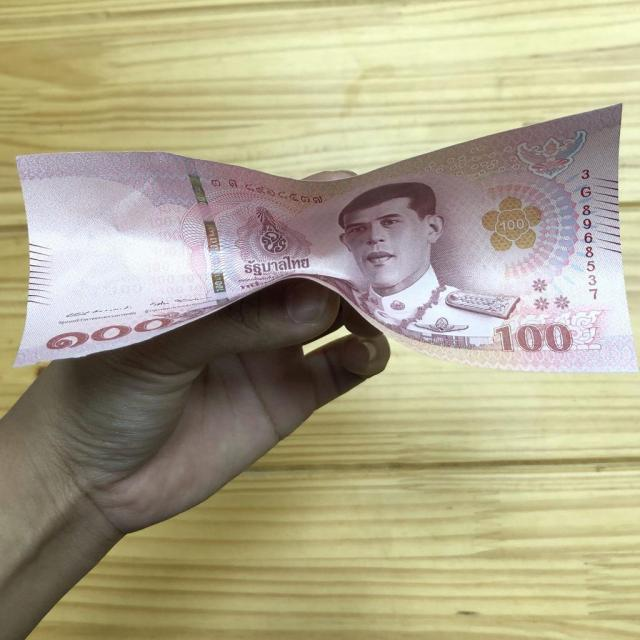THAI100: (15, 104, 636, 372)
